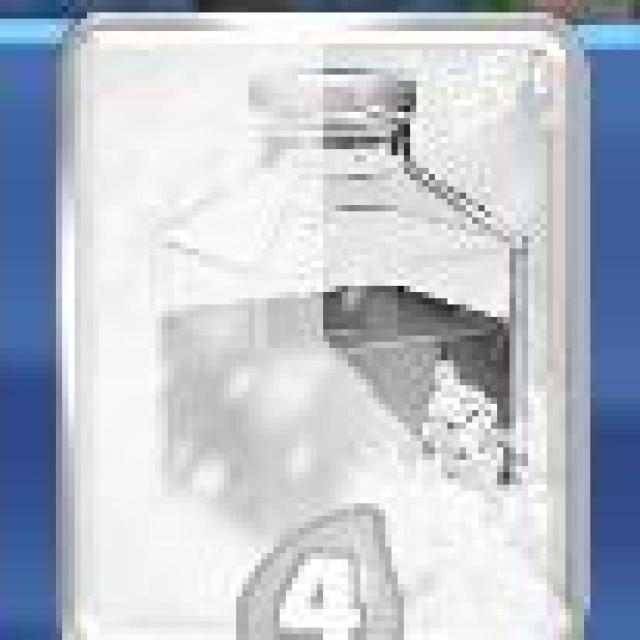Freeze: (54, 19, 596, 640)
